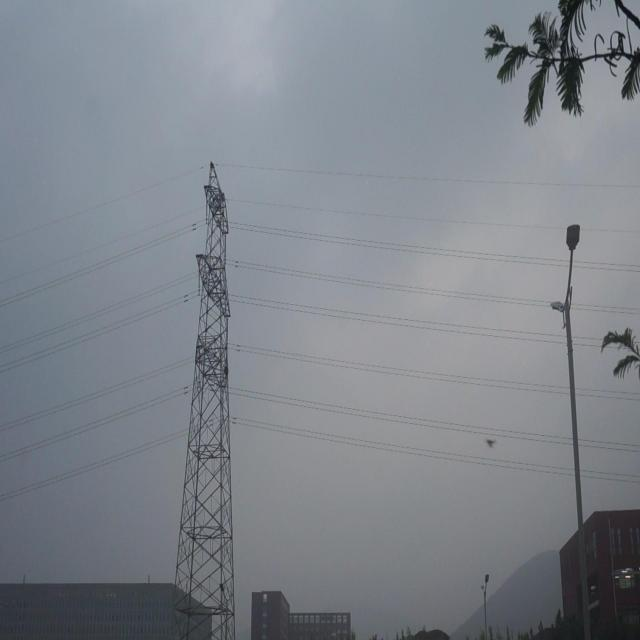UAV: (485, 439, 498, 448)
